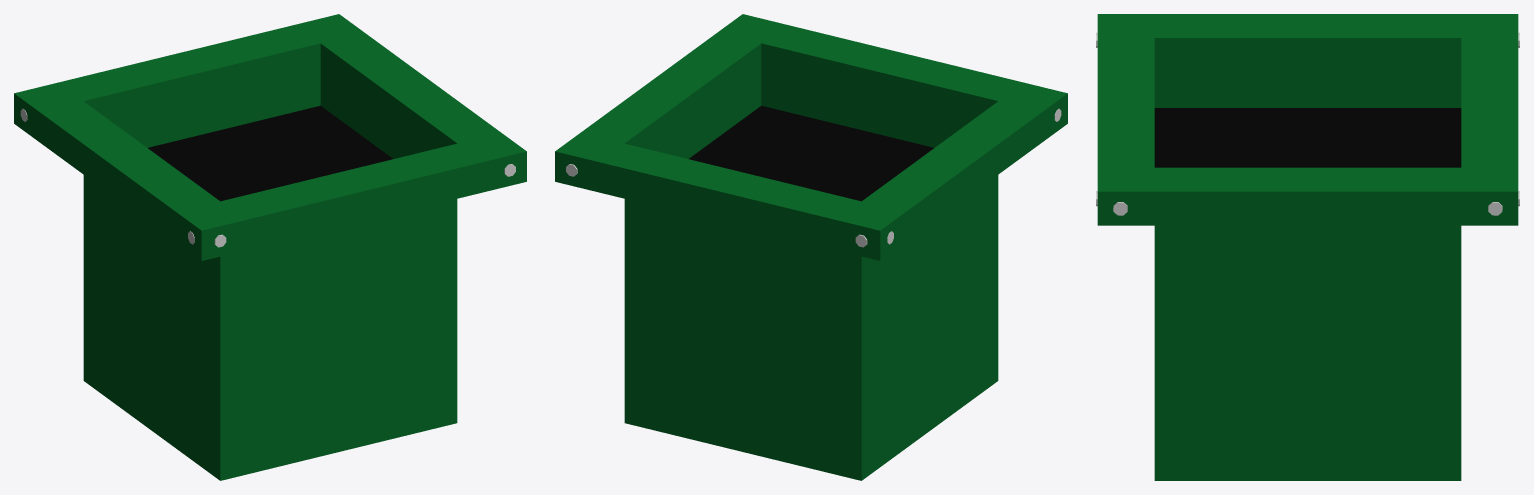
Rendered from pipe.glb.
3 views of the same model, side by side, from view 1: azimuth 30°, elevation 25°; view 2: azimuth 150°, elevation 25°; view 3: azimuth 270°, elevation 25° (orthographic). The views are drawn at different scales.
Parts seen in each view (by area): view 1: Cube, Plane; view 2: Cube, Plane; view 3: Cube, Plane.
Boxes of the visible parts, box(x1,y1,x2,y2) form: Cube: box(14, 14, 526, 480); Plane: box(148, 105, 392, 201); Cube: box(555, 14, 1067, 480); Plane: box(689, 105, 933, 201); Cube: box(1097, 14, 1518, 480); Plane: box(1154, 108, 1461, 167).
Bounding box in the file's own units: 2.76 × 2.25 × 2.76.
